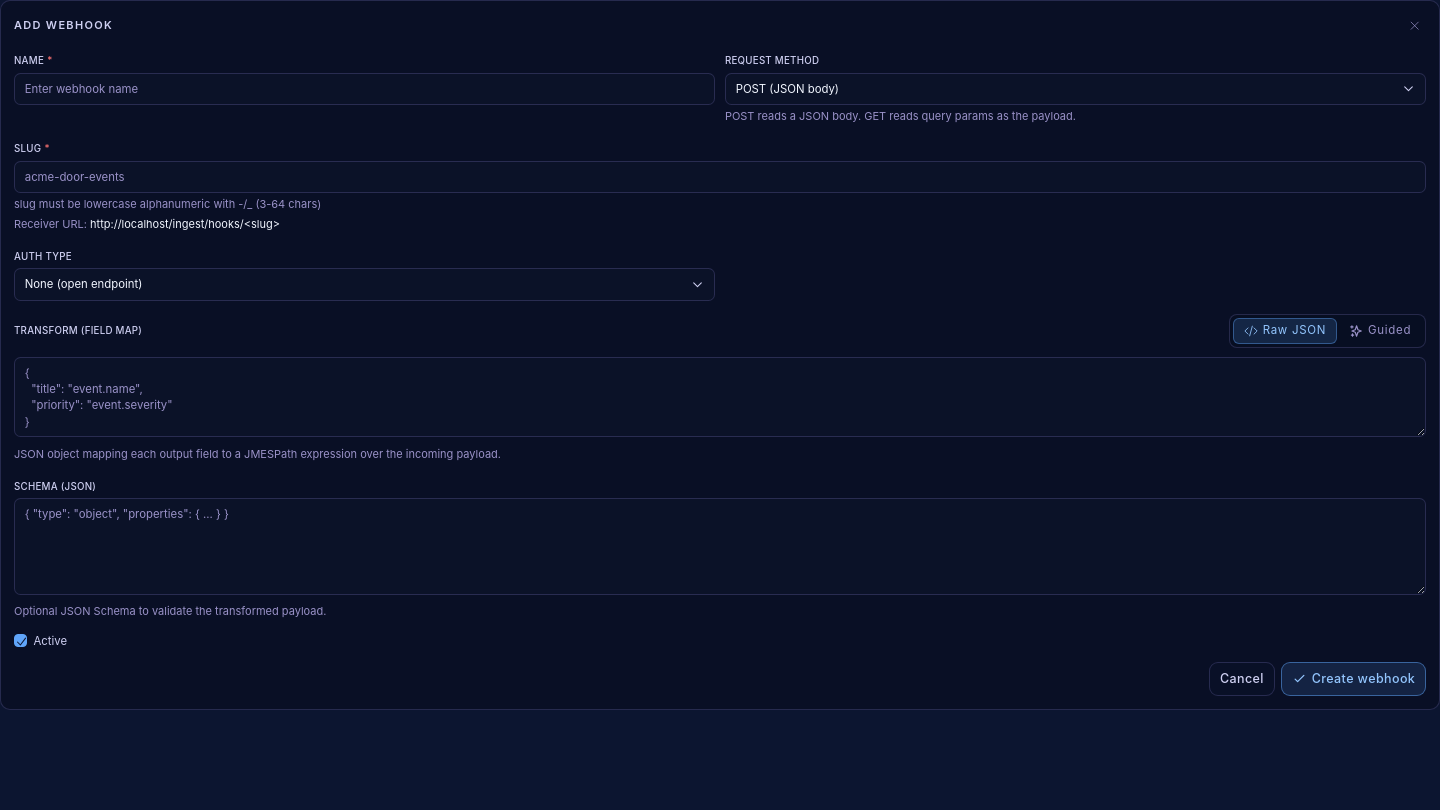
it: creating a webhook › suggests the slug from the name while the operator has not touched it
In the field with placeholder "Enter webhook name": (365, 89) x1=14 y1=72 x2=715 y2=105, type "Acme Door — Events!!"
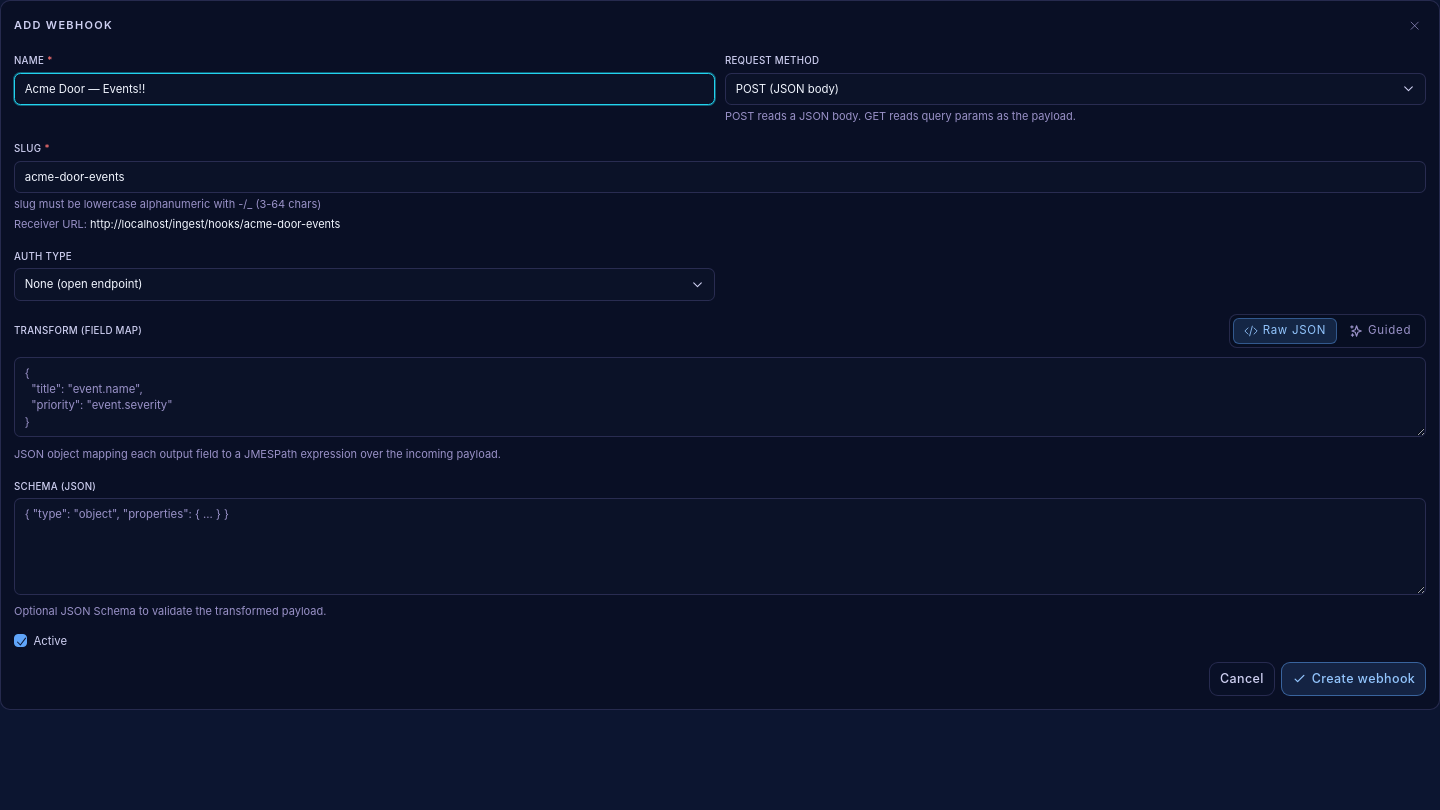
Expected: the field with placeholder "acme-door-events" holds "acme-door-events", x1=14 y1=160 x2=1426 y2=193
